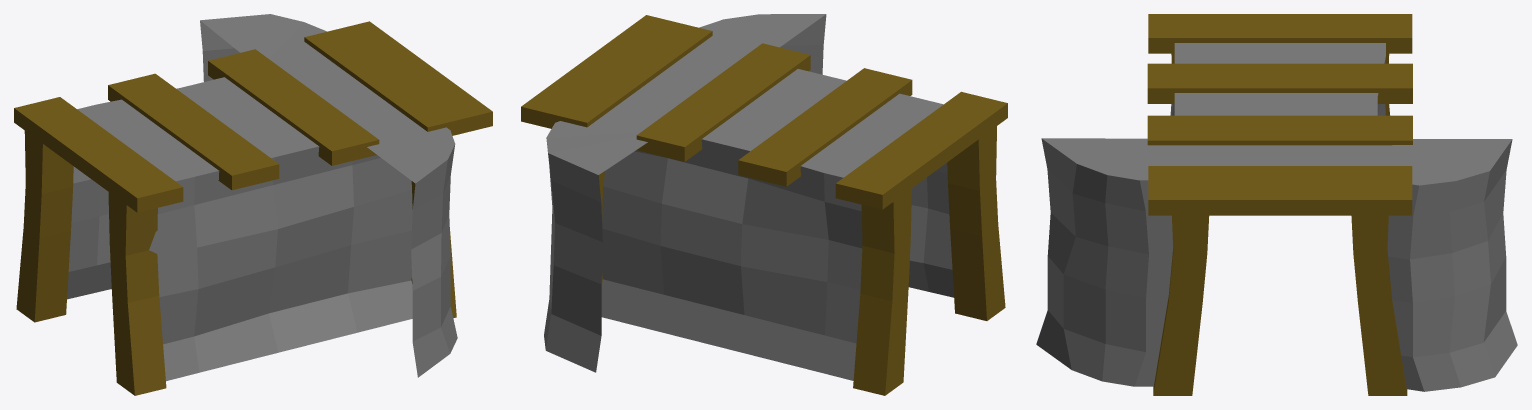
The model's file is mine_entrance.fbx.
The picture shows the model from 3 angles, left to right: view 1: azimuth 30°, elevation 25°; view 2: azimuth 150°, elevation 25°; view 3: azimuth 270°, elevation 25°; orthographic projection. The views are drawn at different scales.
Visible parts, largest first — view 1: Cube; view 2: Cube; view 3: Cube.
Boxes of the visible parts, box(x1,y1,x2,y2) form: Cube: box(14, 14, 492, 395); Cube: box(521, 14, 1007, 395); Cube: box(1036, 14, 1517, 395).
Size of the model in its own units: 416 by 223 by 456.
